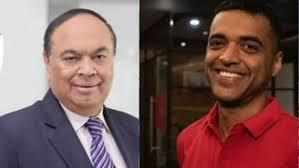person: (39, 6, 140, 143), (195, 0, 287, 118)
